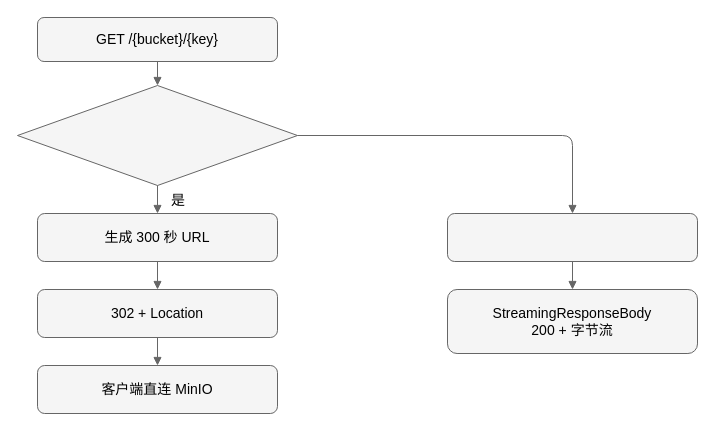
This 715x431 diagram has some shape labels left out. The shapes that lost their labels are listed below. From the top down, each one's centre as x and y in pixels, then its label:
At pixel 157 135: "后端支持预签名？".
At pixel 415 122: "不支持".
At pixel 572 237: "getObjectWithMeta".
